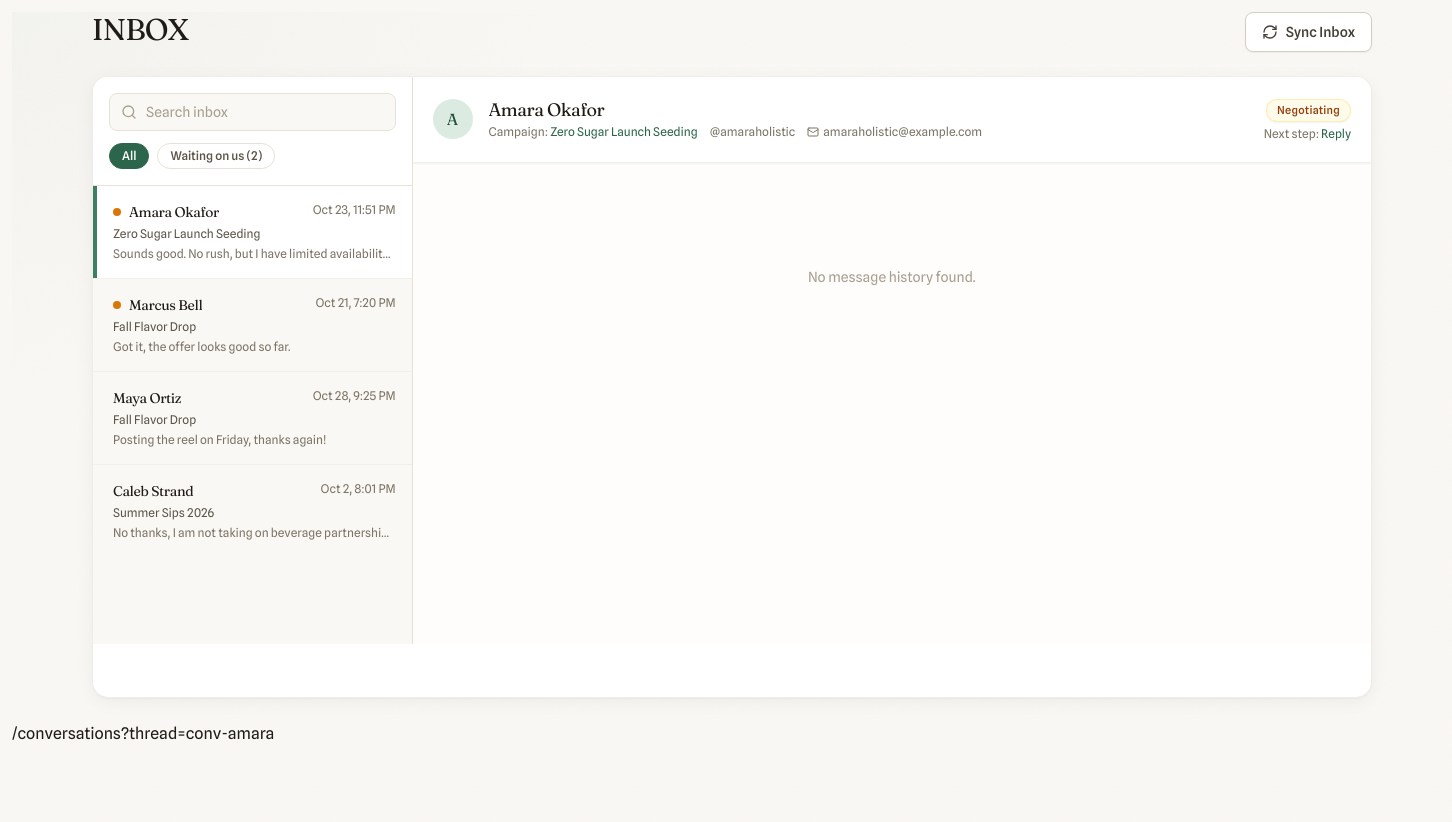
Conversations page › search matches the creator name, the handle and the last message
The image size is (1452, 822).
Type "MARCUS BELL" into the search field named "Search conversations" at [252, 112], box [109, 93, 396, 131]
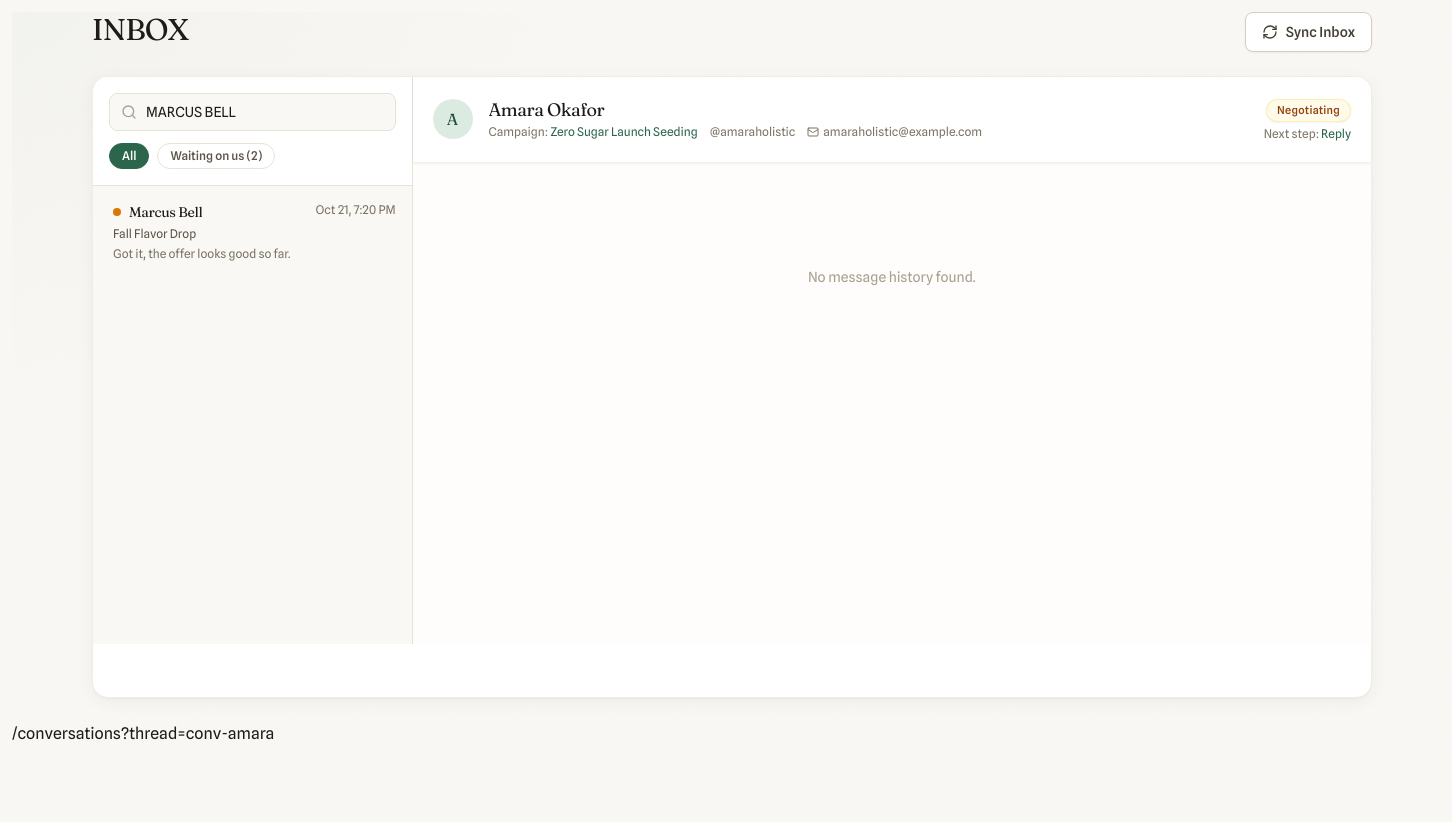
Expected: the list item shows "Marcus Bell", [93, 186, 412, 278]
Now the number of list items is 1, box [93, 186, 412, 278]
Replace the text in the search field named "Search conversations" with "@calebcooks" at [252, 112], box [109, 93, 396, 131]
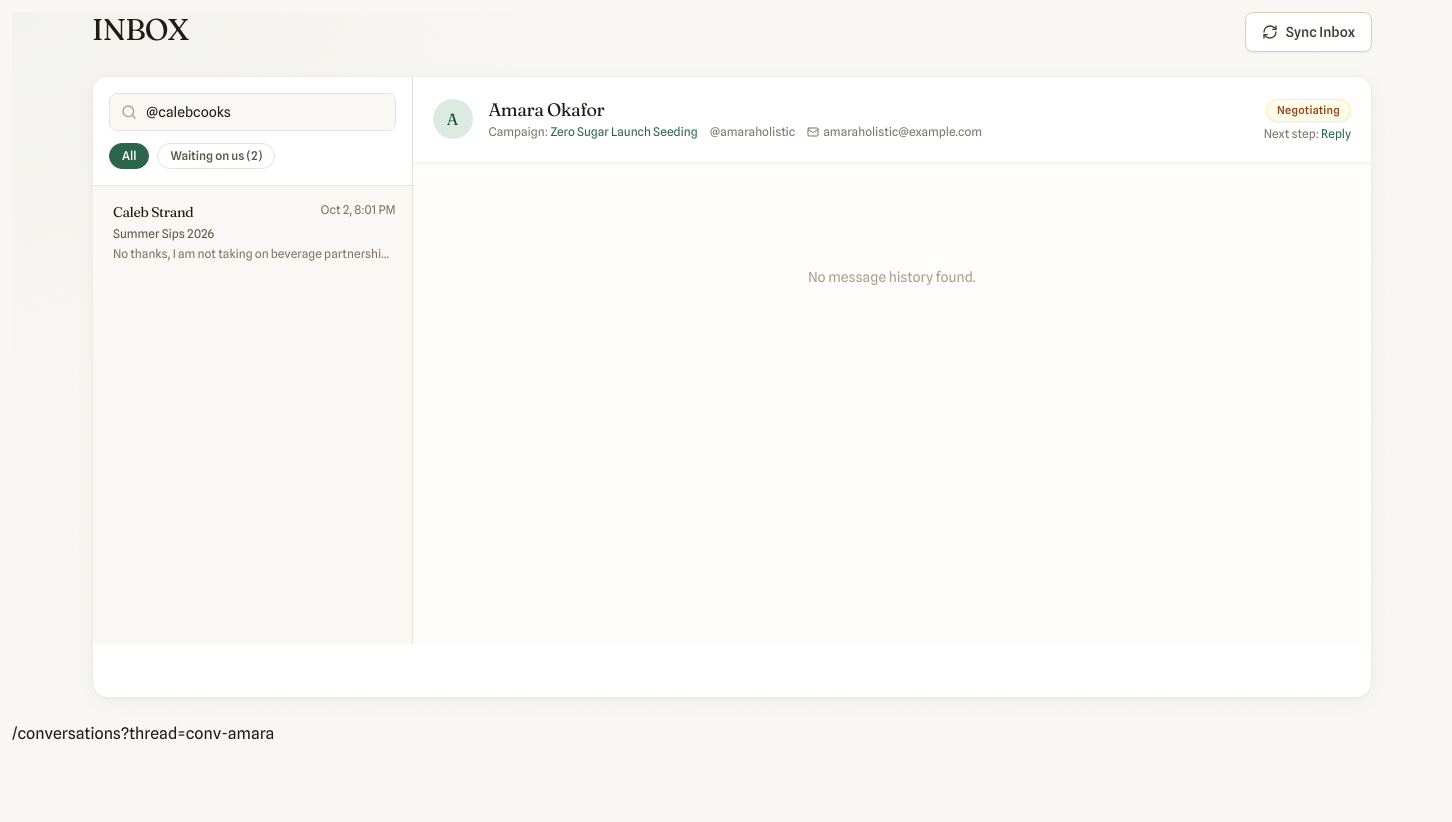
Now the number of list items is 1, box [93, 186, 412, 278]
Now the list item shows "Caleb Strand", box [93, 186, 412, 278]
Replace the text in the search field named "Search conversations" with "limited availability" at [252, 112], box [109, 93, 396, 131]
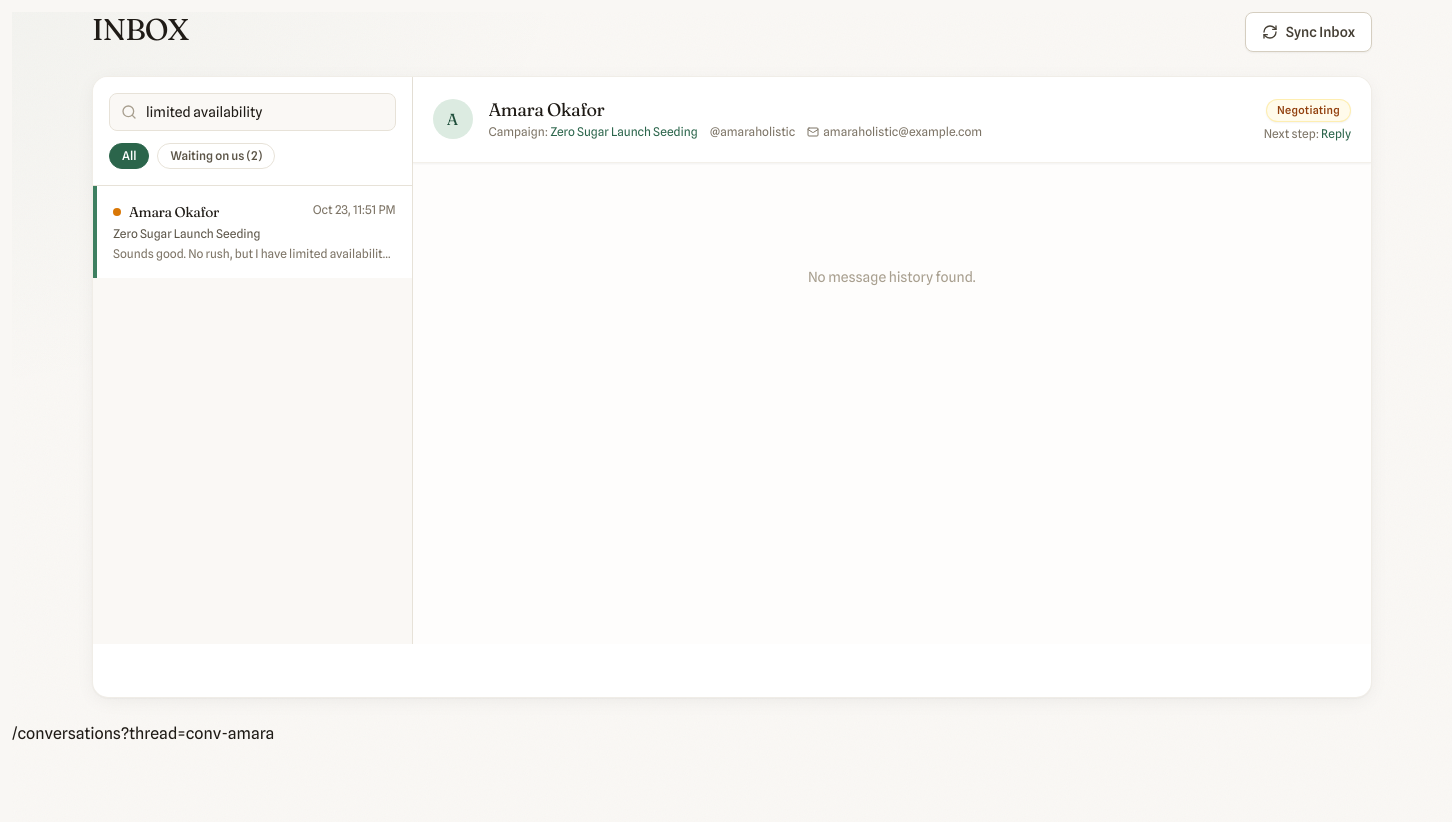
Now the number of list items is 1, box [93, 186, 412, 278]
Now the list item shows "Amara Okafor", box [93, 186, 412, 278]
